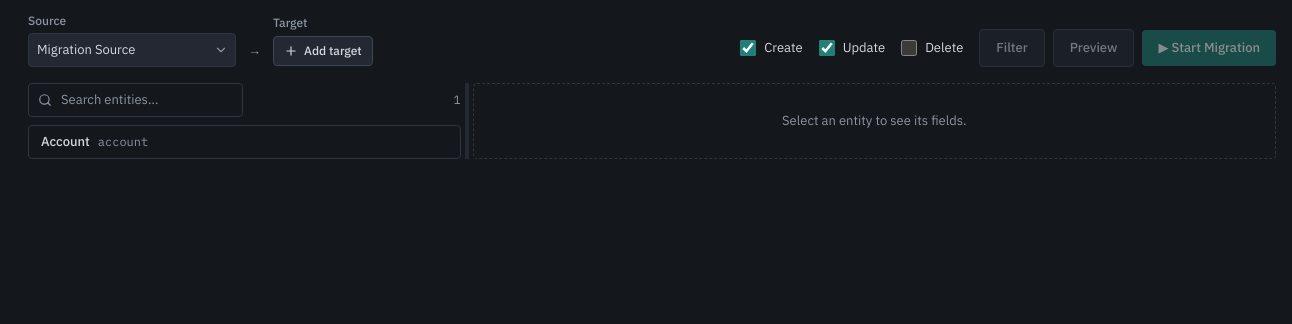
Data Migration › runs the selected entity migration and publishes completed status
Expected: the dropdown labelled "Source" shows "Migration Source", top-left (28, 33), bottom-right (236, 67)
Press Enter in the button "Add target", box top-left (273, 36), bottom-right (373, 66)
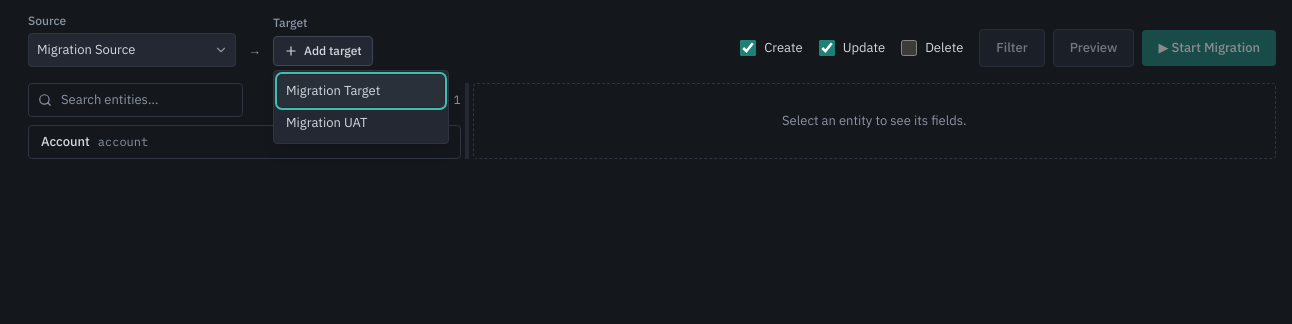
Click the menu item "Migration Target" at (361, 91), box top-left (278, 75), bottom-right (444, 107)
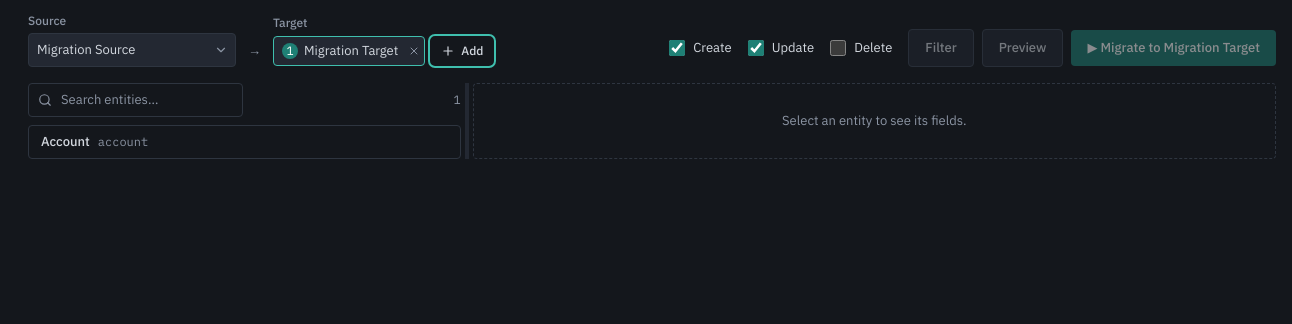
Click the 7th button at (65, 142), box top-left (29, 126), bottom-right (460, 158)
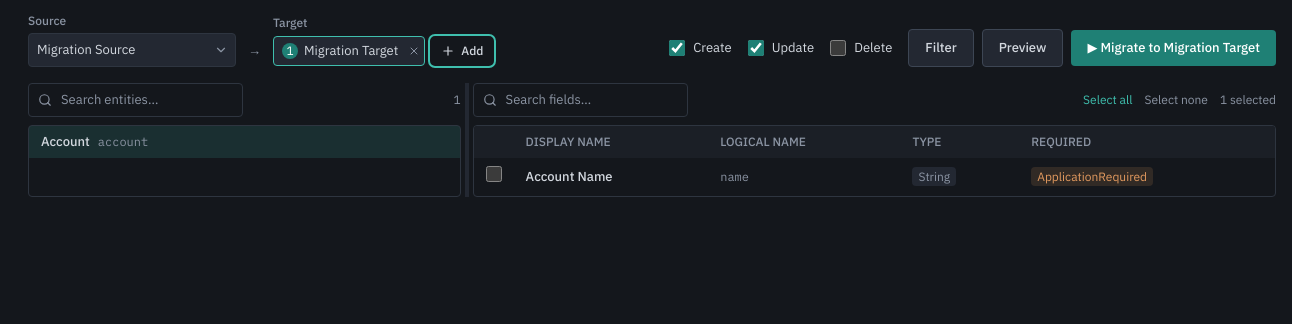
Click the text "Account Name" at (611, 177), box top-left (514, 158), bottom-right (708, 196)
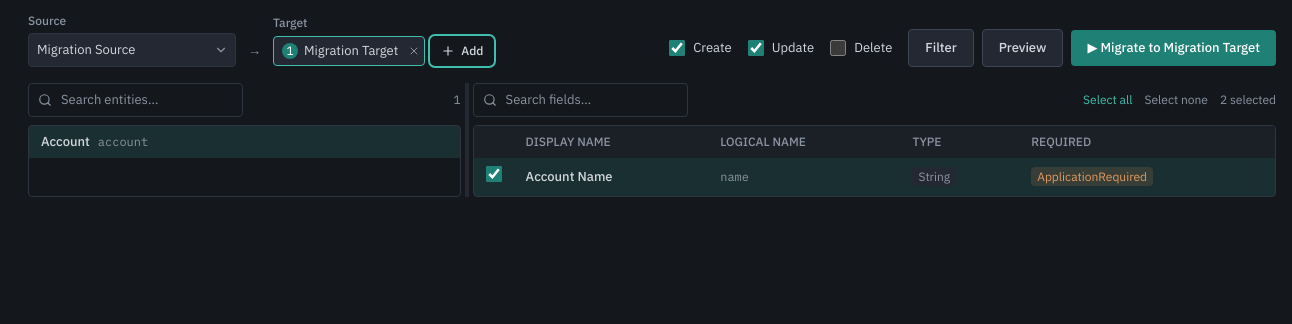
Click the button "▶ Migrate to Migration Target" at (1174, 48), box top-left (1071, 30), bottom-right (1276, 66)
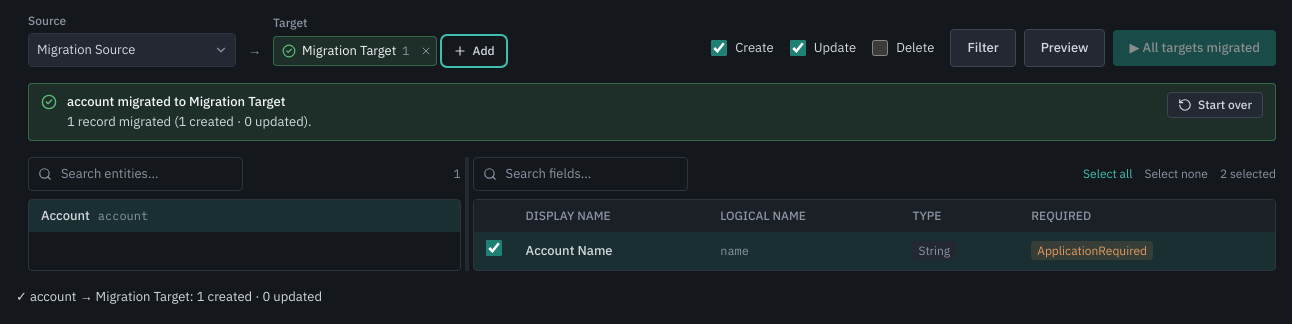
Expected: the element named "tool statuses" reads "✓ account → Migration Target: 1 created · 0 updated", top-left (12, 287), bottom-right (326, 307)
